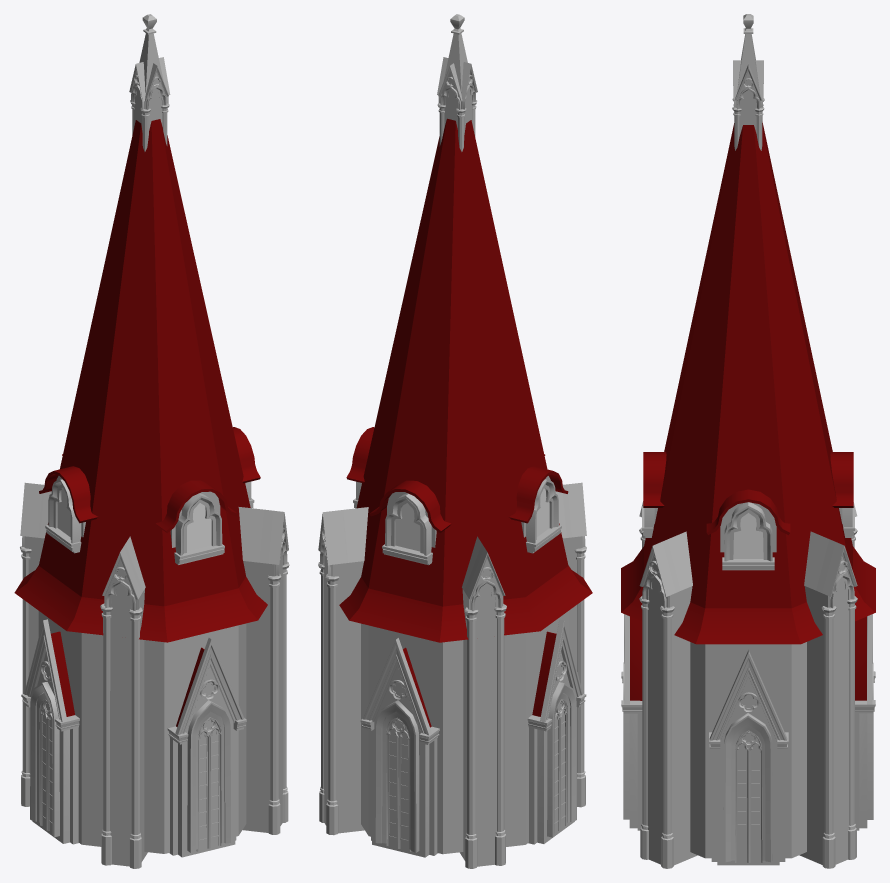
Rendered from spire_002.glb.
The picture shows the model from 3 angles, left to right: view 1: azimuth 30°, elevation 25°; view 2: azimuth 150°, elevation 25°; view 3: azimuth 270°, elevation 25°; orthographic projection.
Visible parts, largest first — view 1: spire_002; view 2: spire_002; view 3: spire_002.
Part boxes in pixels (x1,y1,x2,y2): spire_002: (14, 14, 289, 868); spire_002: (318, 14, 592, 868); spire_002: (621, 14, 875, 868).
Bounding box in the file's own units: 1.91 × 6.68 × 1.91.
